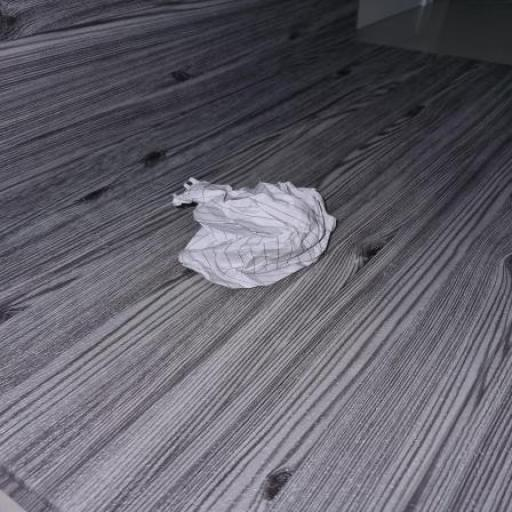paper: (155, 162, 351, 299)
